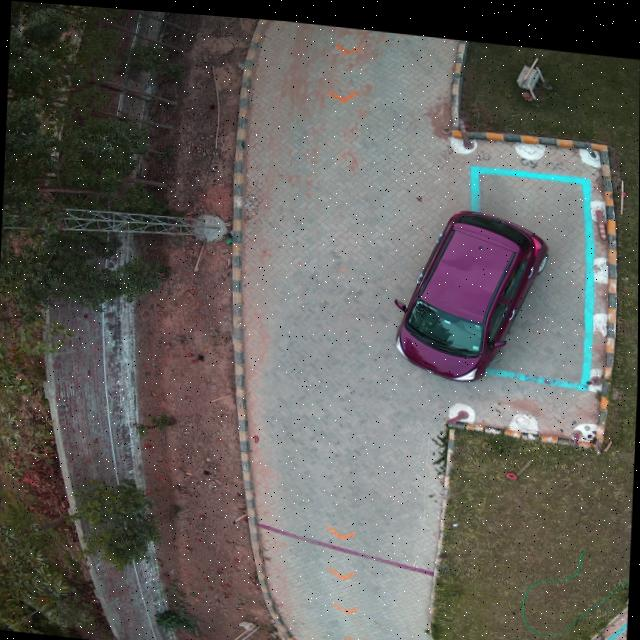car: (399, 202, 549, 374)
